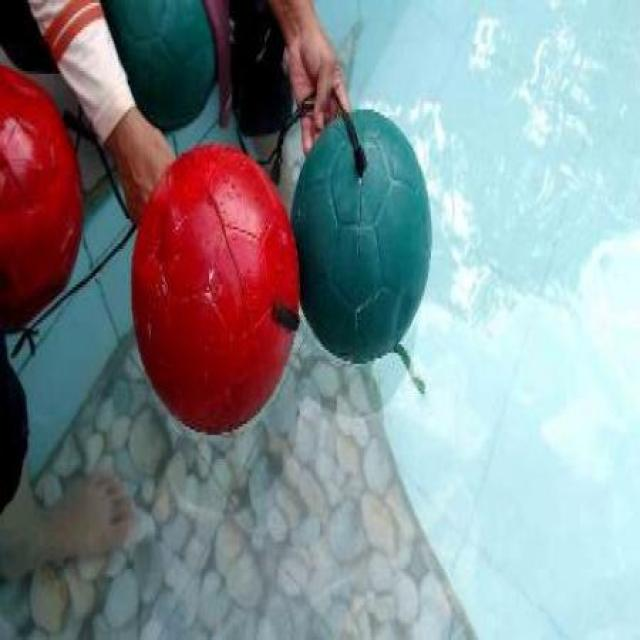buoy: (130, 145, 298, 435), (290, 107, 430, 364), (0, 62, 82, 331), (112, 1, 216, 130)
